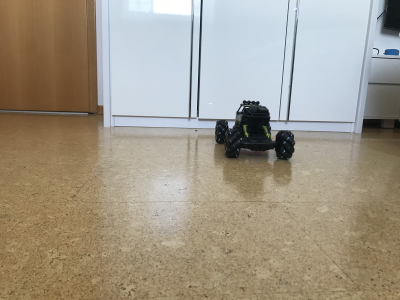remote control car: (212, 98, 298, 161)
